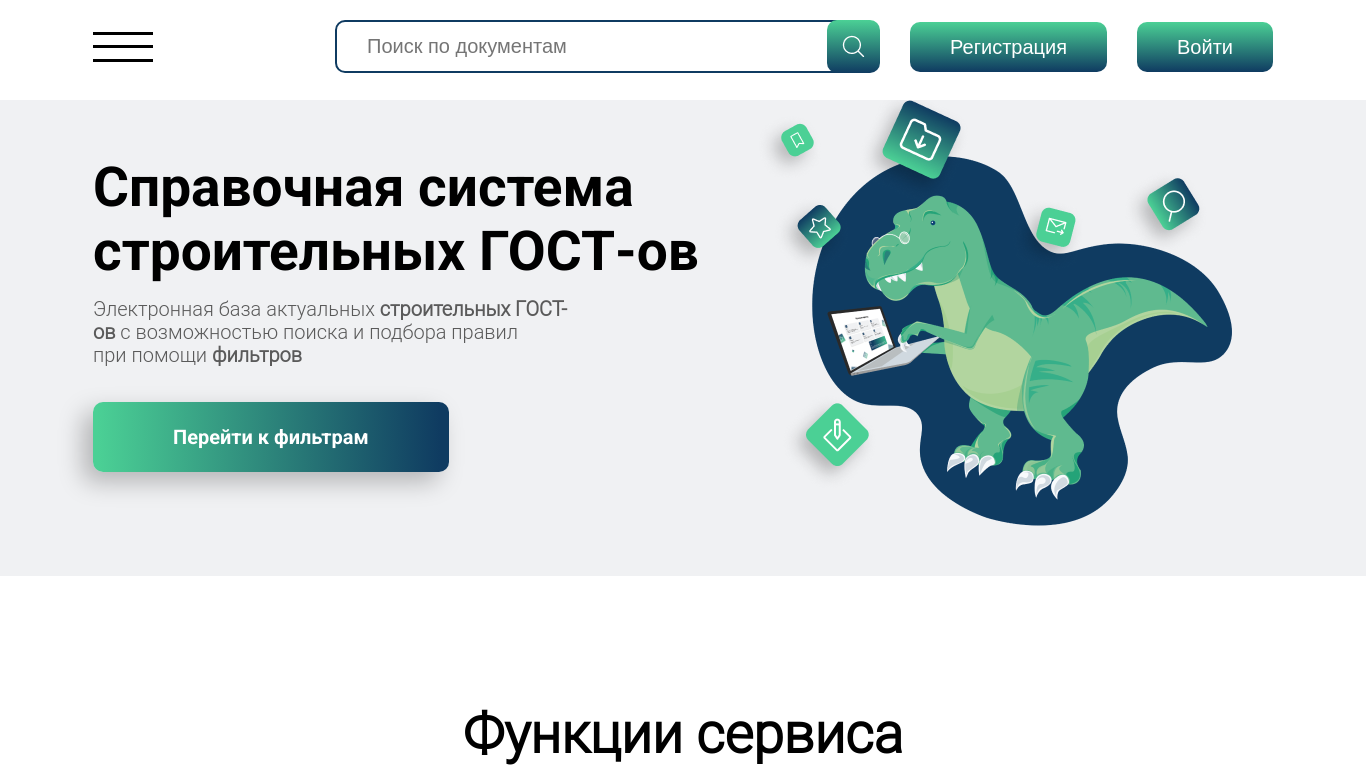
Test case: Тестирование навигации › Кнопка авторизация
Check: the element with test id "welcome" is shown, box [93, 100, 1233, 526]
Click the link with test id "auth". click: [1205, 46]
box: [1137, 22, 1273, 72]
(page scrolled)
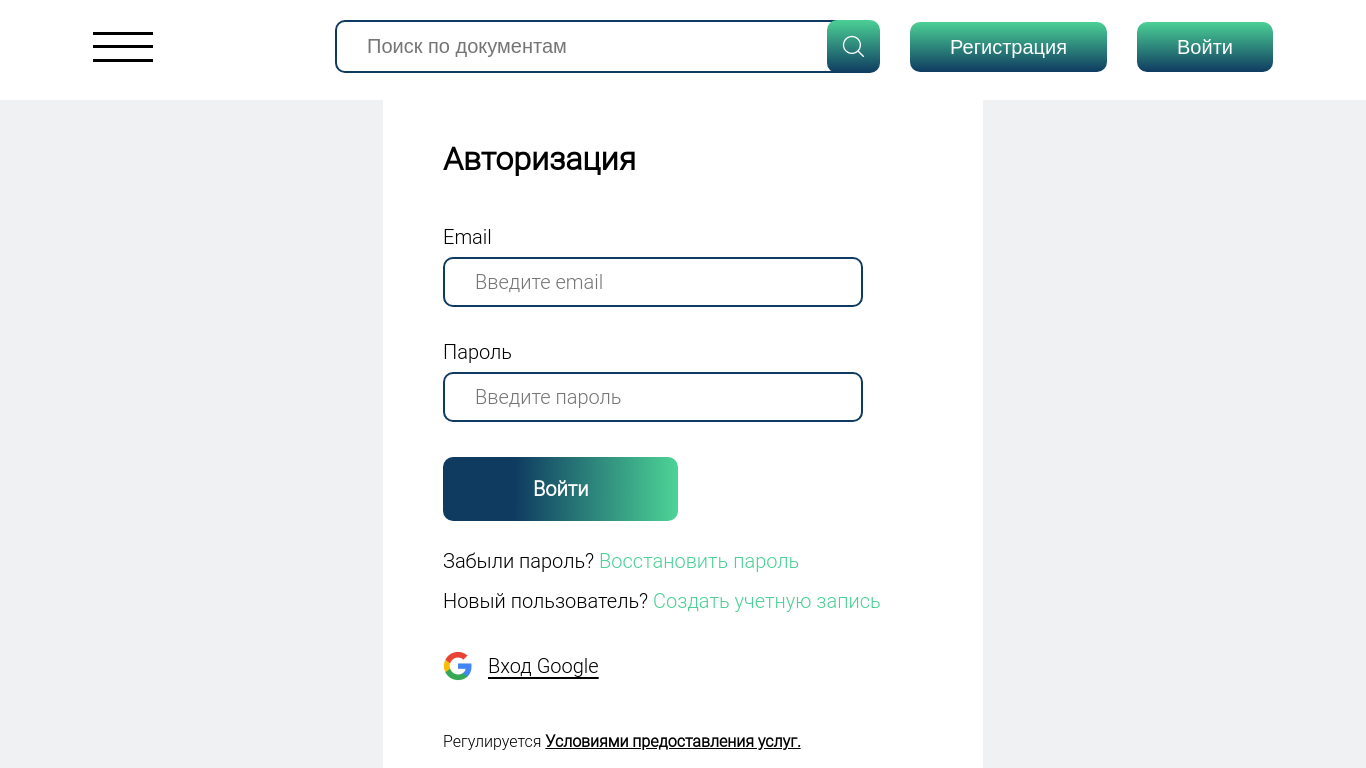
Check: the element with test id "welcome" is gone
